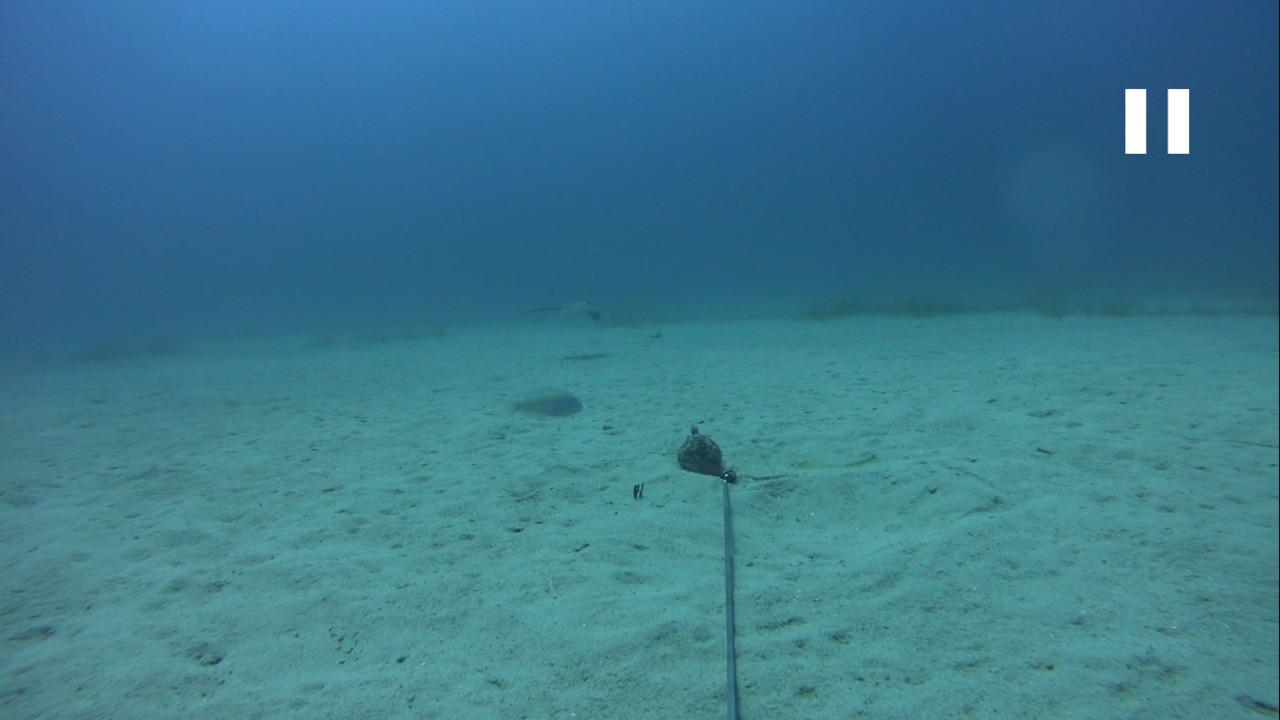myliobatis: (509, 292, 609, 336)
raor: (494, 385, 586, 426)
